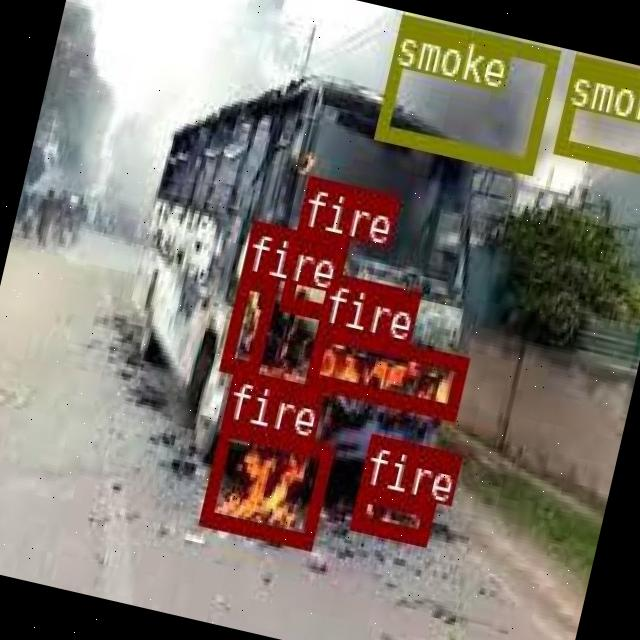fire: (198, 418, 332, 546), (303, 320, 466, 416), (218, 268, 277, 374), (278, 226, 346, 314), (349, 484, 434, 542)
smoke: (373, 13, 558, 172), (553, 51, 640, 169)
